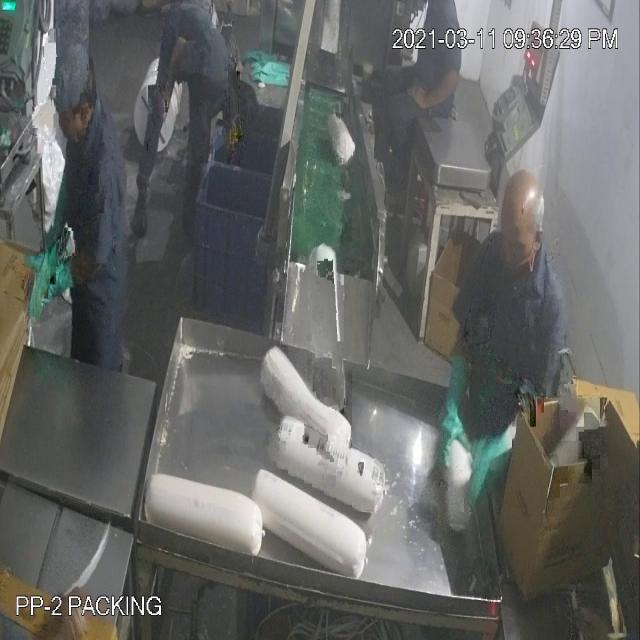No_Gloves: (409, 55, 461, 126)
